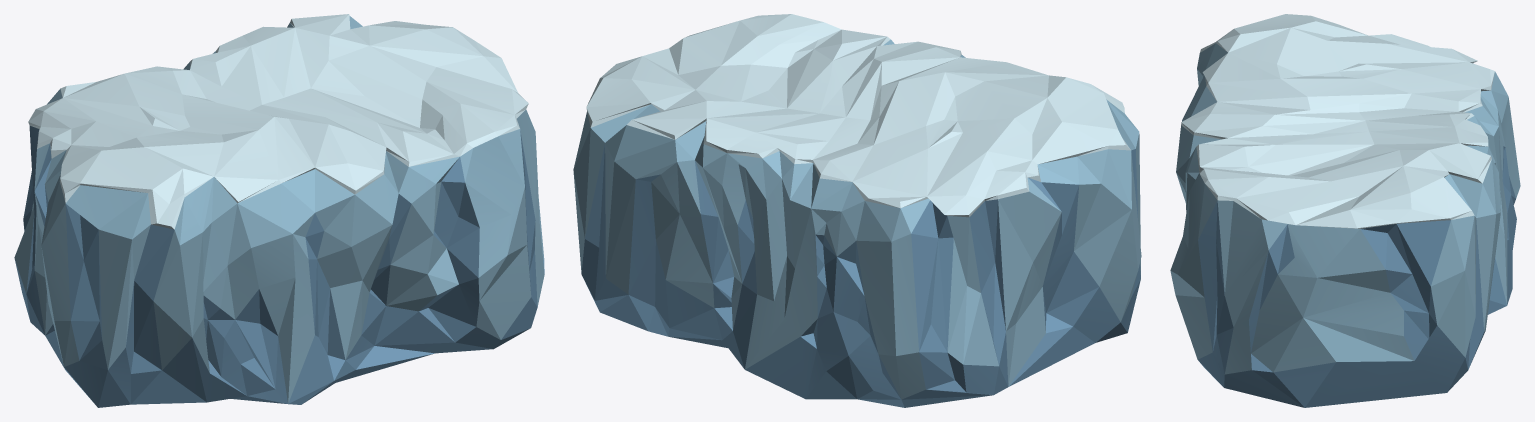
The model's file is Iceberg_01.glb.
3 renders of one model, left to right at view 1: azimuth 30°, elevation 25°; view 2: azimuth 150°, elevation 25°; view 3: azimuth 270°, elevation 25°, orthographic. The views are drawn at different scales.
Visible parts, largest first — view 1: SM_Env_Glacier_01; view 2: SM_Env_Glacier_01; view 3: SM_Env_Glacier_01.
Boxes of the visible parts, x1,y1,x2,y2 form: SM_Env_Glacier_01: (14,14,544,407); SM_Env_Glacier_01: (573,14,1141,407); SM_Env_Glacier_01: (1170,14,1520,407).
Size of the model in its own units: 27.38 by 12.58 by 18.89.
Materials: 1 (1 with a texture image).
